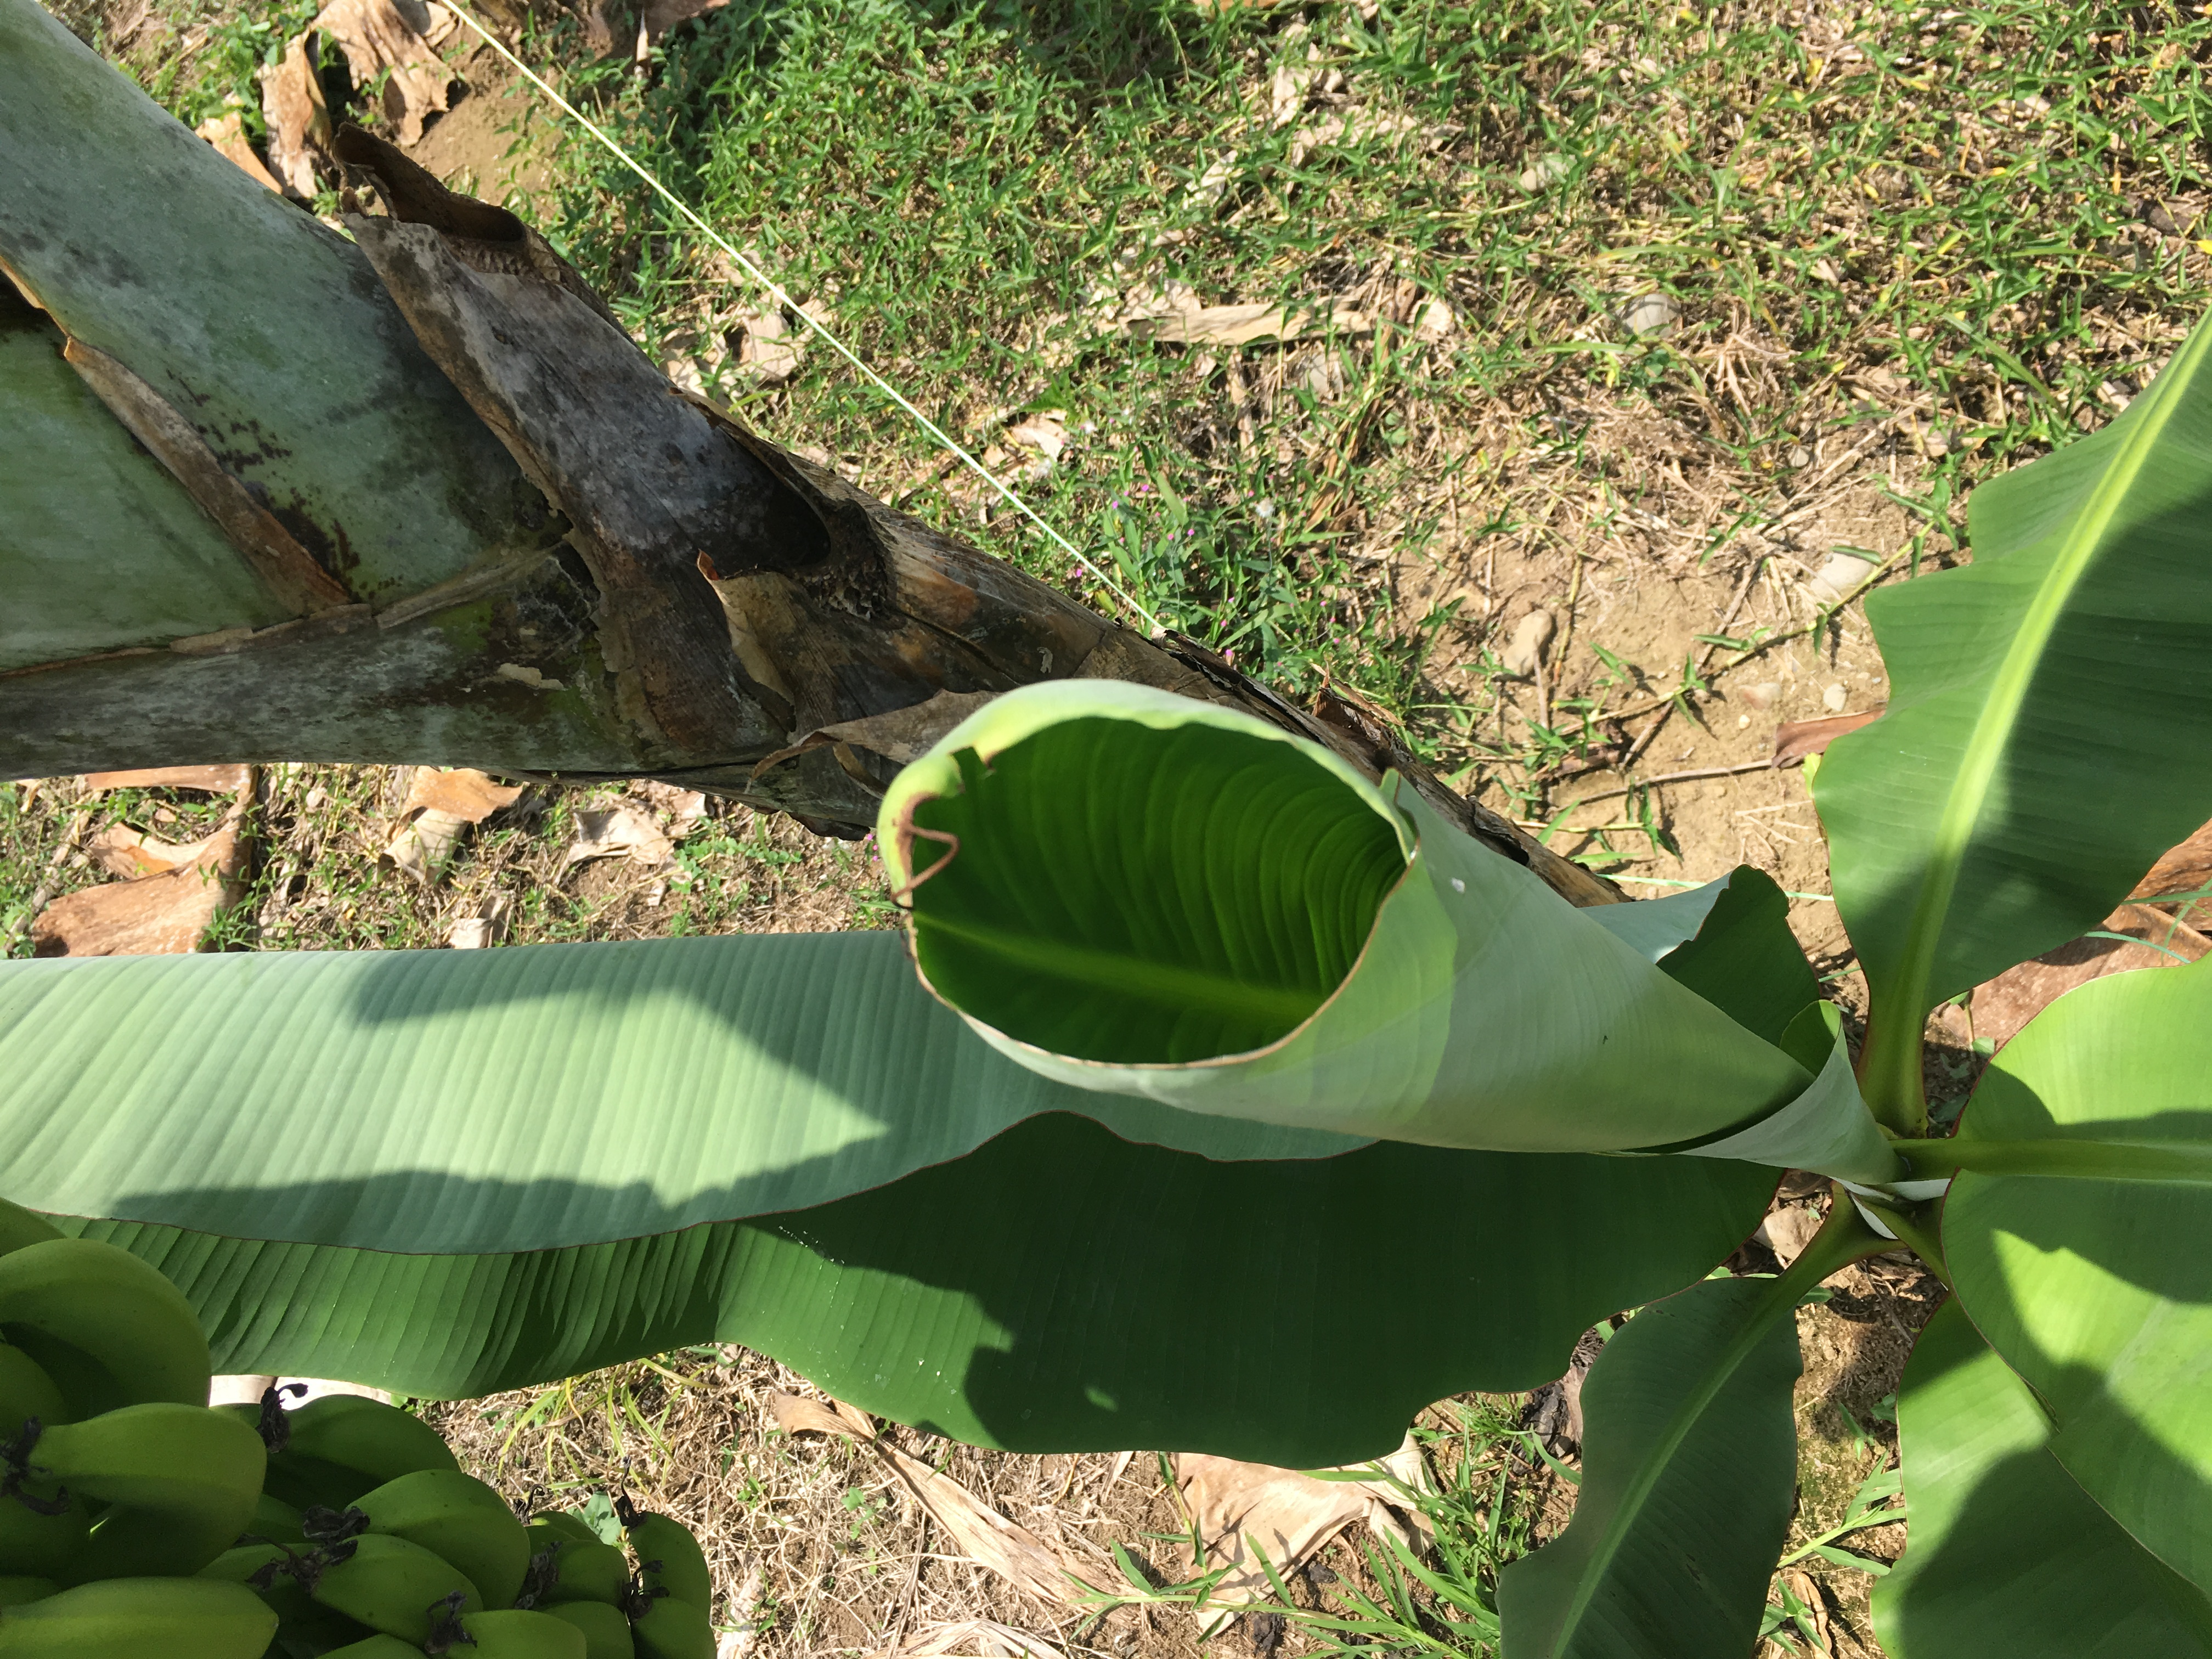candleleafs: (876, 676, 1879, 1197)
